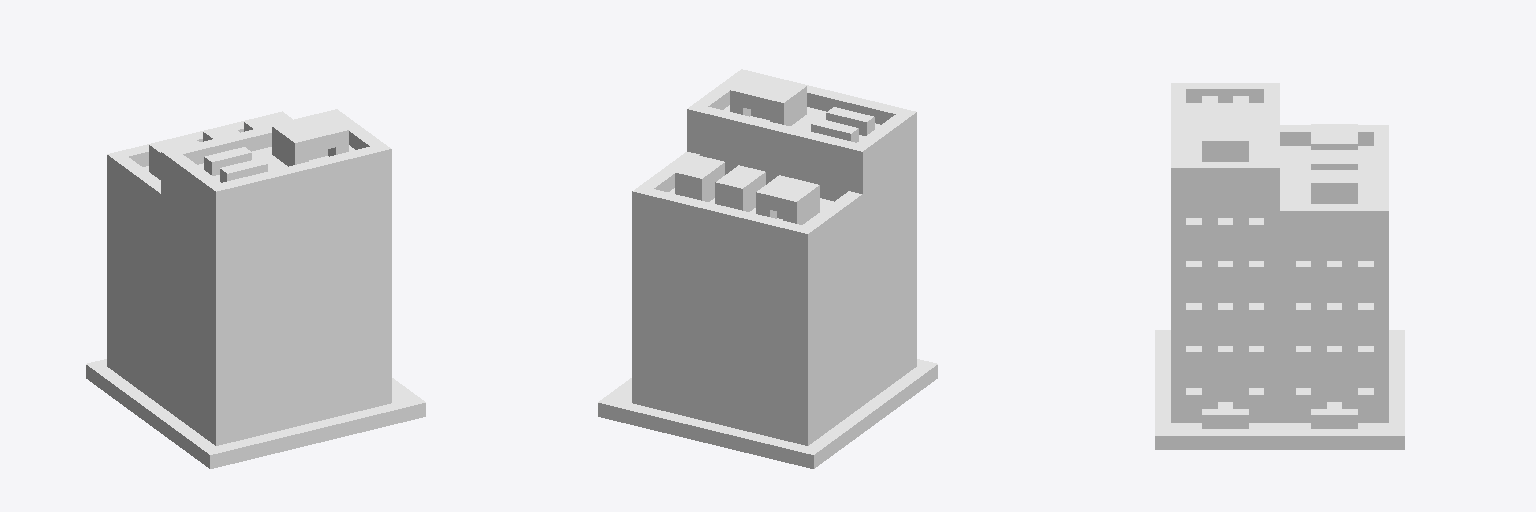
Rendered from House11.obj.
3 views of the same model, side by side, from view 1: azimuth 30°, elevation 25°; view 2: azimuth 150°, elevation 25°; view 3: azimuth 270°, elevation 25° (orthographic).
Bounding box in the file's own units: 16 × 20 × 16.